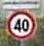limite 40: (6, 10, 36, 41)
